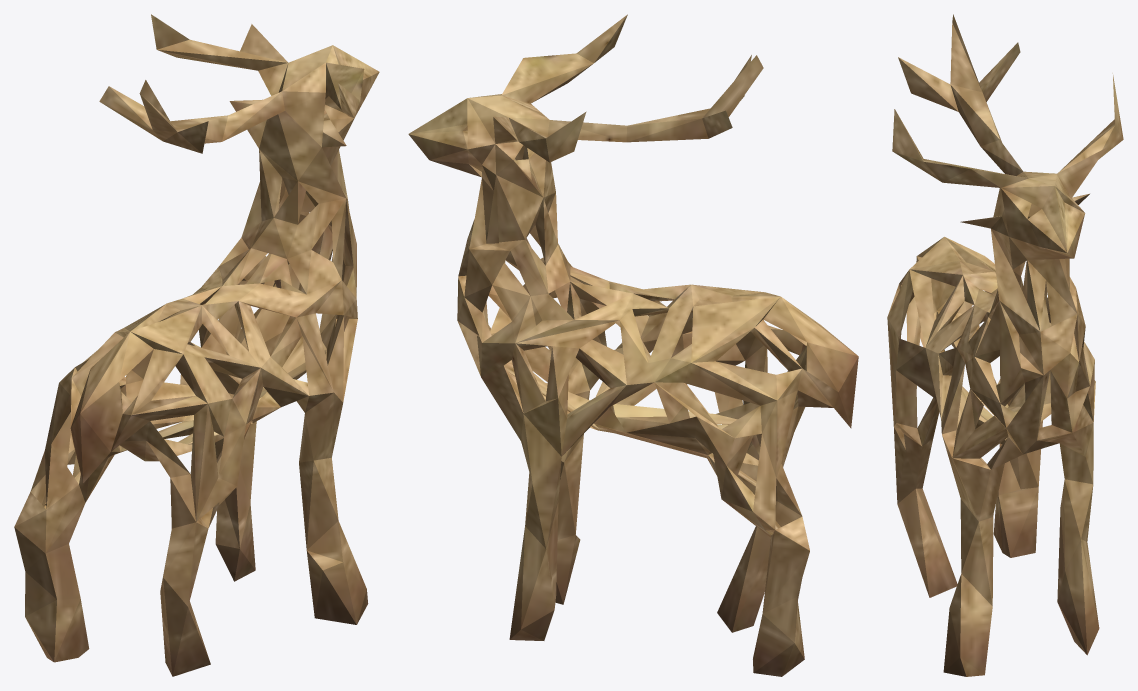
File: wicker-effigy.glb
3 views of the same model, side by side, from view 1: azimuth 30°, elevation 25°; view 2: azimuth 150°, elevation 25°; view 3: azimuth 270°, elevation 25° (orthographic). The views are drawn at different scales.
Visible parts, largest first — view 1: wicker-effigy; view 2: wicker-effigy; view 3: wicker-effigy.
Boxes of the visible parts, x1,y1,x2,y2 form: wicker-effigy: (14, 14, 379, 676); wicker-effigy: (408, 14, 858, 676); wicker-effigy: (887, 14, 1123, 676).
Bounding box in the file's own units: 1.65 × 2.42 × 0.9193.
1 material, 1 textured.
